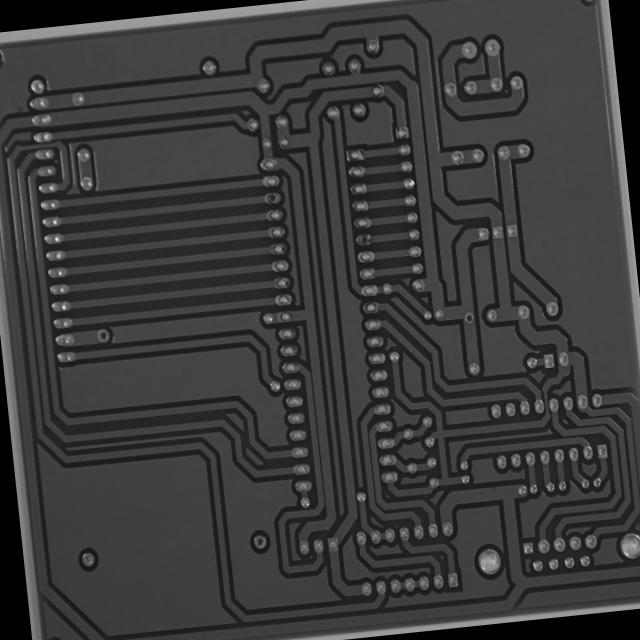missing_hole: (94, 324, 114, 346), (250, 531, 270, 551), (263, 188, 282, 208), (356, 230, 375, 250), (461, 309, 475, 326)
